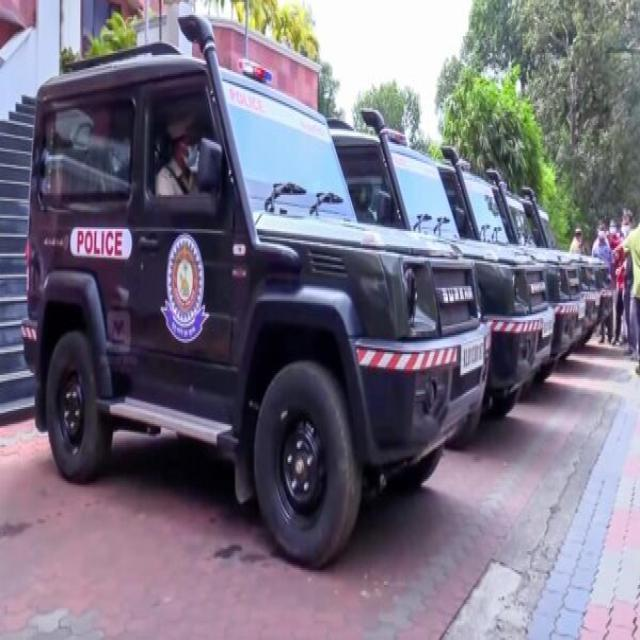bike: (1, 318, 637, 638)
